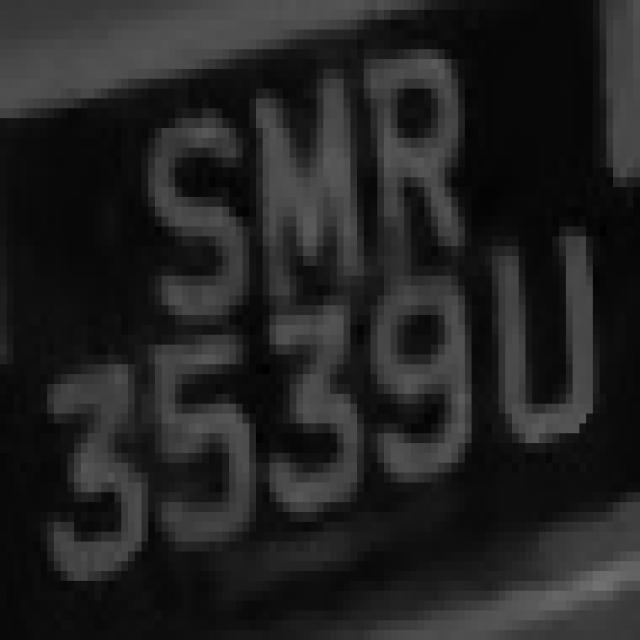3: (256, 296, 384, 542), (27, 335, 148, 591)
5: (135, 296, 256, 562)
9: (357, 276, 465, 512)
M: (229, 79, 364, 305)
R: (344, 39, 472, 256)
S: (115, 108, 242, 325)
U: (478, 217, 613, 462)
